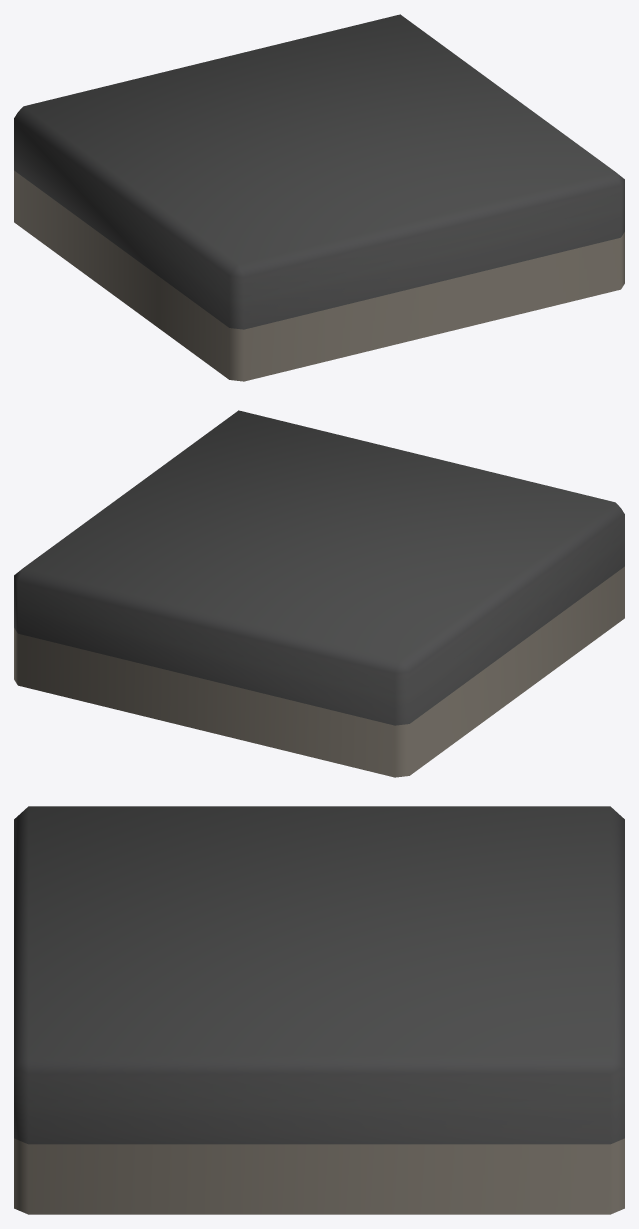
Rendered from RoofAdd_2_A_3.glb.
3 renders of one model, top to bottom at view 1: azimuth 30°, elevation 25°; view 2: azimuth 150°, elevation 25°; view 3: azimuth 270°, elevation 25°, orthographic. The views are drawn at different scales.
Parts seen in each view (by area): view 1: RoofAdd_2_A_3; view 2: RoofAdd_2_A_3; view 3: RoofAdd_2_A_3.
Part boxes in pixels (x1=…): RoofAdd_2_A_3: x1=14, y1=14, x2=624, y2=381; RoofAdd_2_A_3: x1=14, y1=410, x2=624, y2=777; RoofAdd_2_A_3: x1=14, y1=806, x2=624, y2=1214.
Size of the model in its own units: 2.7 by 0.7417 by 2.67.
Materials: 1 (1 with a texture image).
